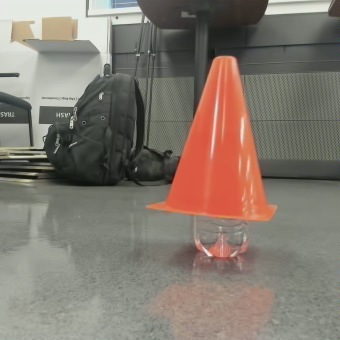Cone: (182, 48, 281, 209)
